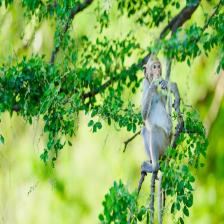monkey: (141, 46, 177, 187)
